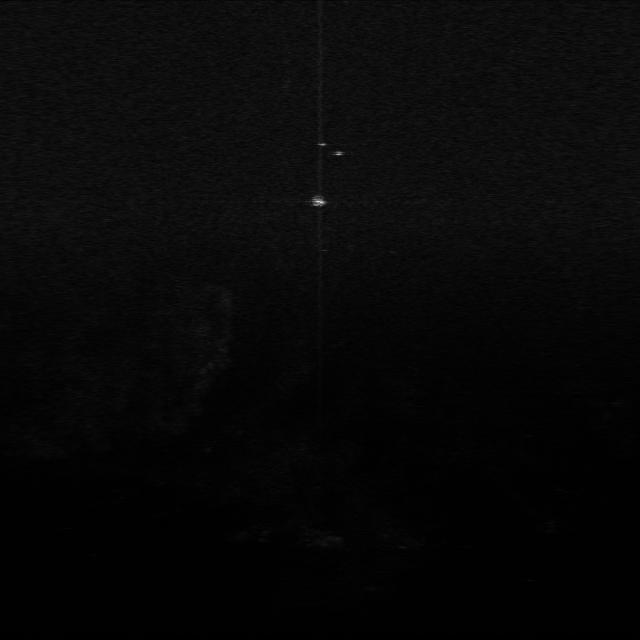rov: (306, 193, 333, 212)
